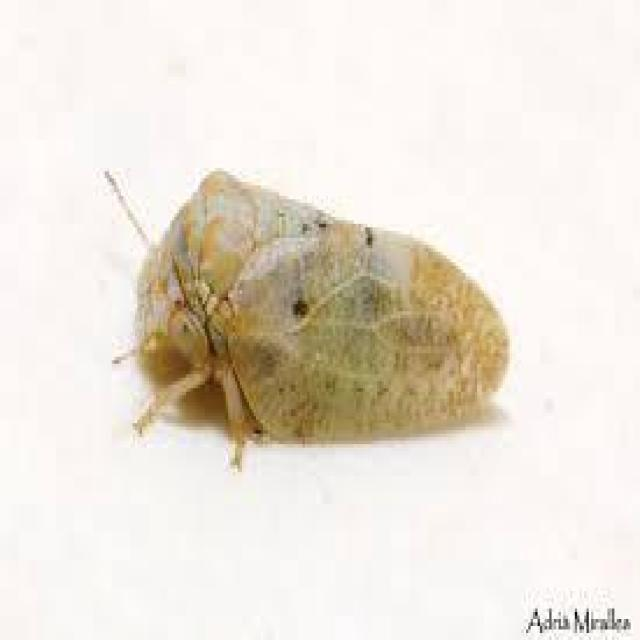Psyllid: (100, 140, 561, 500)
